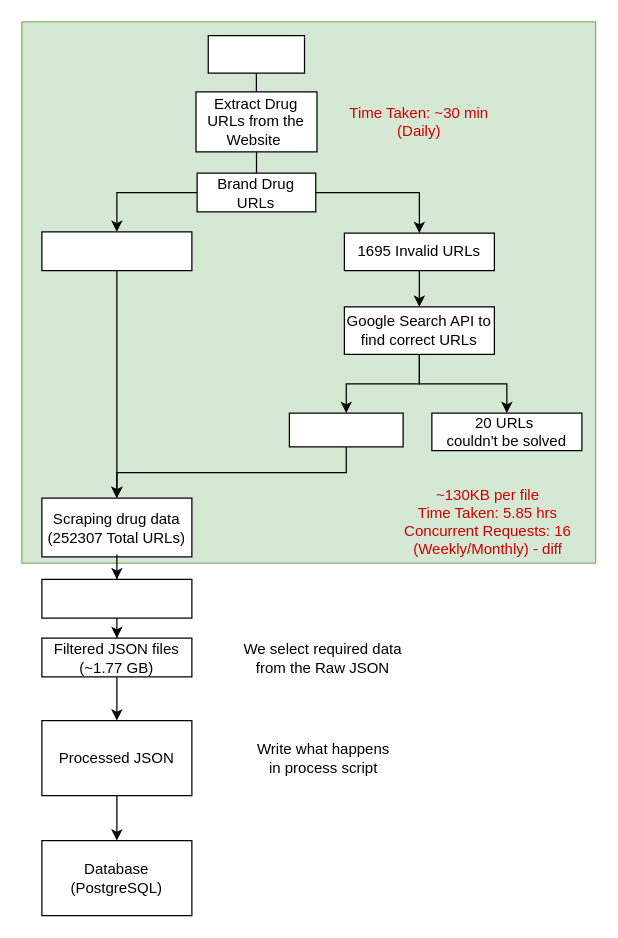
Some shapes in this 618 by 938 pixel diagram are drawn without their labels. Each missing label, with the centre of its shape:
"250632 Valid URLs" goes at (x=116, y=251).
"Corrected 1675 URLs" goes at (x=345, y=429).
"Raw JSON files (~35GB)" goes at (x=116, y=598).
"Web Scraper" goes at (x=255, y=53).
